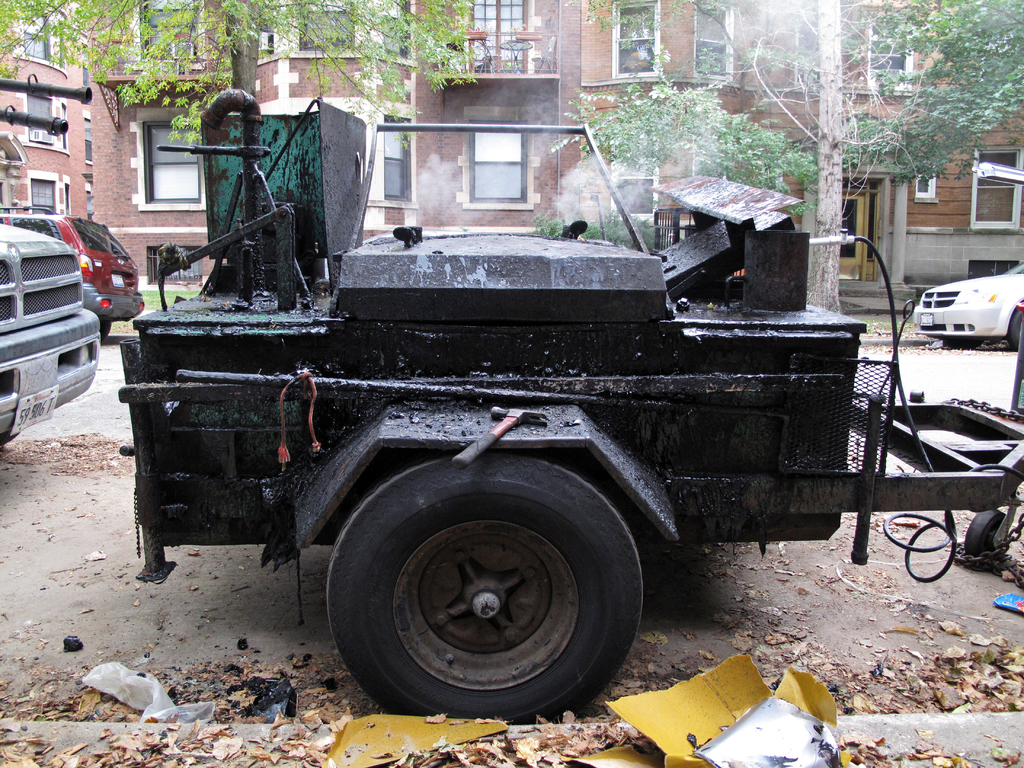cars: (0, 219, 101, 450), (0, 211, 142, 343), (907, 260, 1021, 356)
